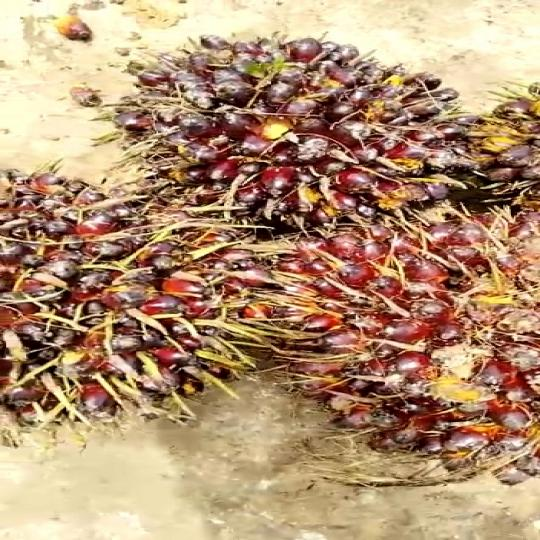kurang masak: (0, 155, 311, 433), (258, 205, 540, 498), (127, 28, 483, 225)
